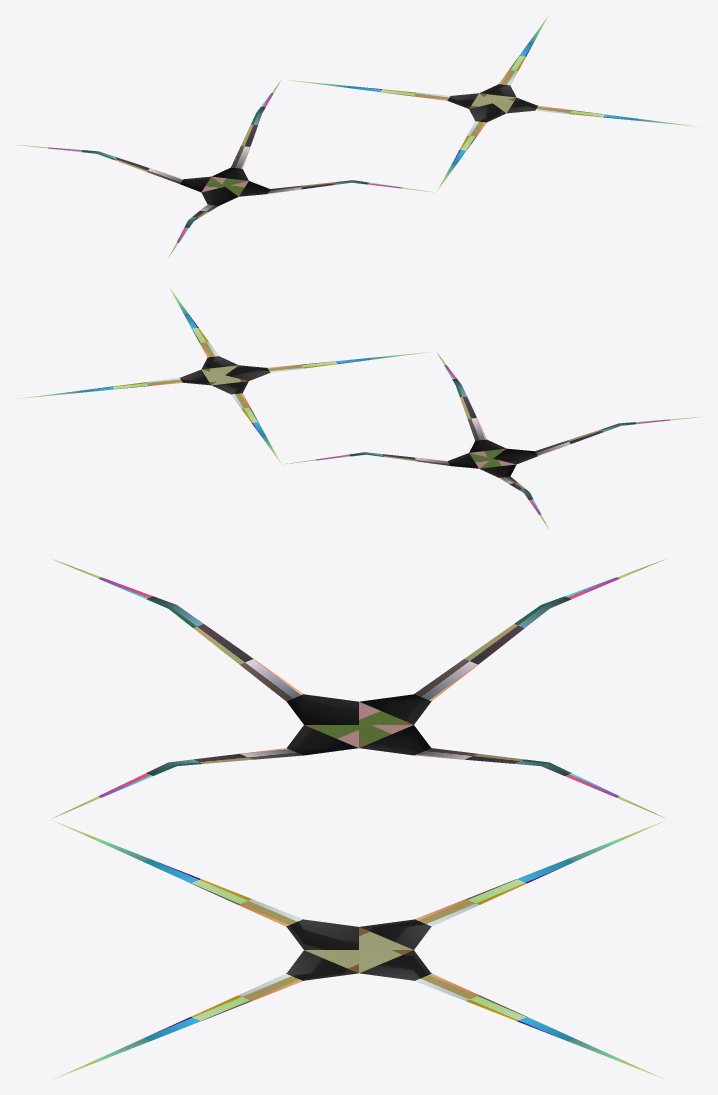
Rendered from efecto_plataforma.fbx.
The picture shows the model from 3 angles, top to bottom: view 1: azimuth 30°, elevation 25°; view 2: azimuth 150°, elevation 25°; view 3: azimuth 270°, elevation 25°; orthographic projection. The views are drawn at different scales.
Visible parts, largest first — view 1: efecto_plataforma, efecto_plataforma_plano; view 2: efecto_plataforma, efecto_plataforma_plano; view 3: efecto_plataforma_plano, efecto_plataforma.
Part boxes in pixels (x1,y1,x2,y2): efecto_plataforma: (18,81,433,256); efecto_plataforma_plano: (285,15,700,190); efecto_plataforma: (284,353,699,528); efecto_plataforma_plano: (17,287,432,462); efecto_plataforma_plano: (52,820,665,1079); efecto_plataforma: (52,559,665,818).
Bounding box in the file's own units: 400 × 14.04 × 200.
